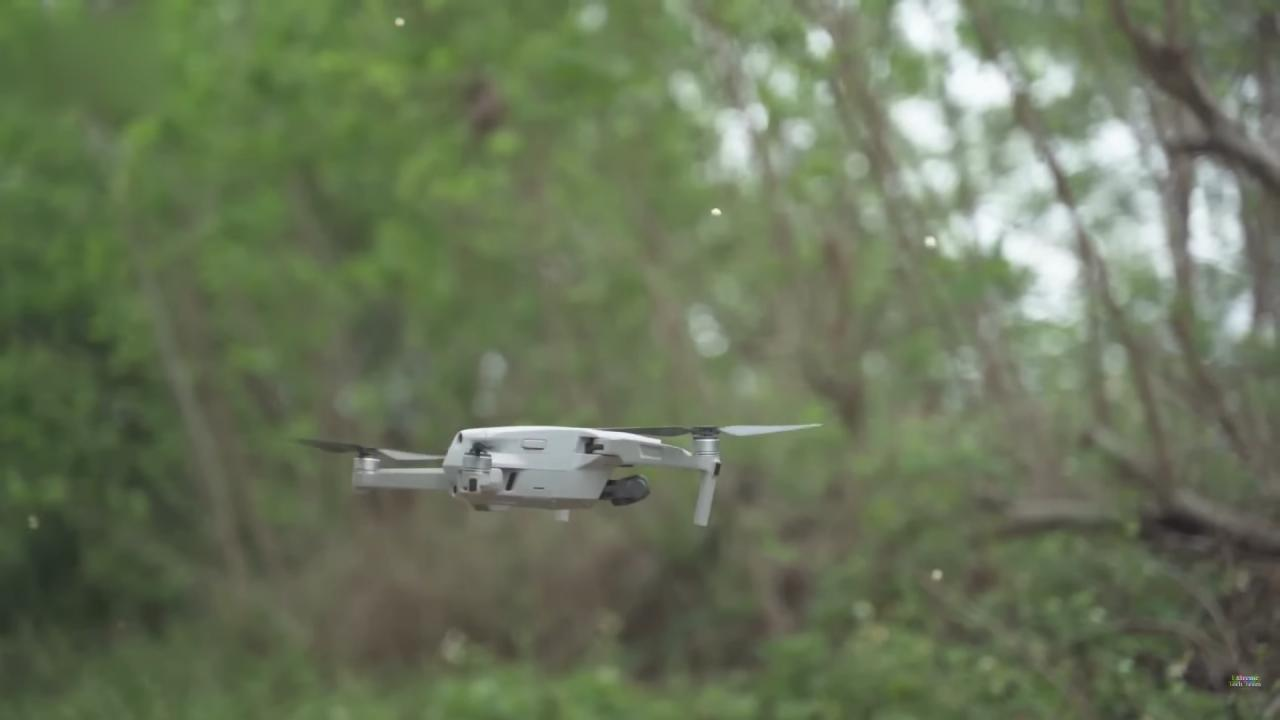Drone: (262, 385, 847, 551)
